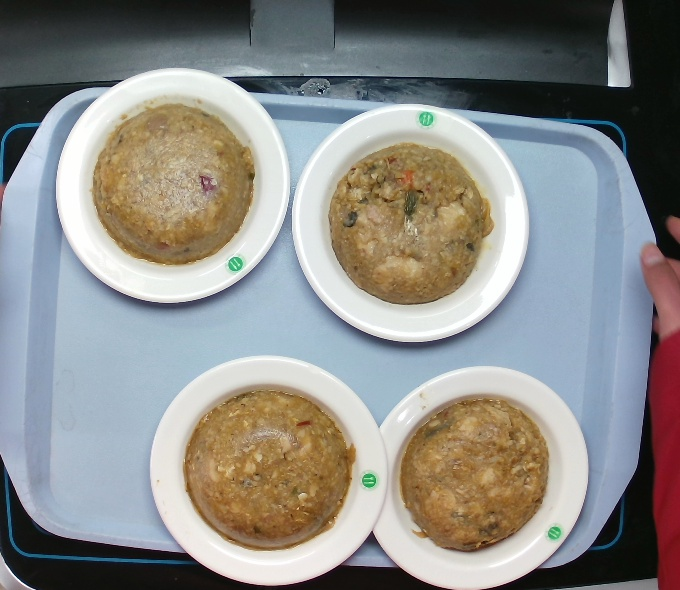wcq-YuDong: (87, 86, 260, 274), (391, 393, 557, 560), (328, 140, 493, 307), (184, 384, 350, 548)
